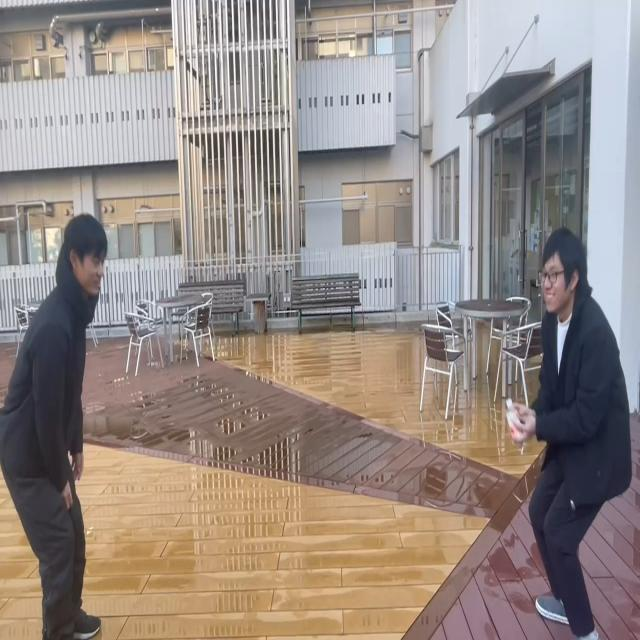bottle: (504, 394, 524, 442)
